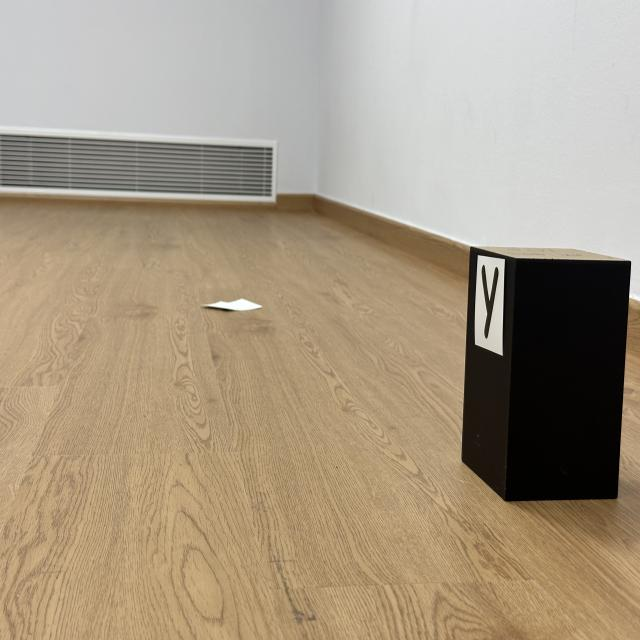Y: (481, 265, 499, 338)
